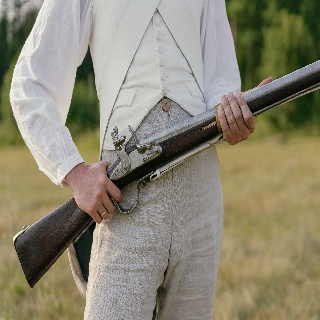rifle: (9, 58, 320, 290)
